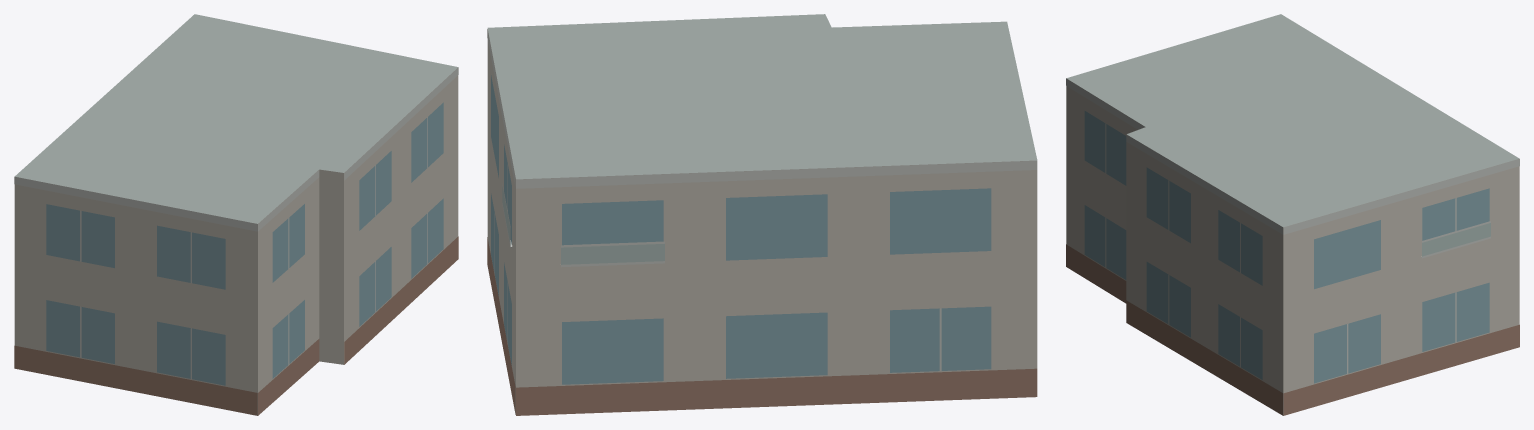
File: survey-upis-32894756.glb
The picture shows the model from 3 angles, left to right: view 1: azimuth 30°, elevation 25°; view 2: azimuth 150°, elevation 25°; view 3: azimuth 270°, elevation 25°; orthographic projection. The views are drawn at different scales.
Visible parts, largest first — view 1: survey-upis-32894756.tmp; view 2: survey-upis-32894756.tmp; view 3: survey-upis-32894756.tmp.
Part boxes in pixels (box(x1,y1,x2,y2)): survey-upis-32894756.tmp: box(14, 14, 458, 415); survey-upis-32894756.tmp: box(487, 14, 1037, 415); survey-upis-32894756.tmp: box(1066, 14, 1519, 415).
Bounding box in the file's own units: 14.82 × 6.1 × 13.31.
